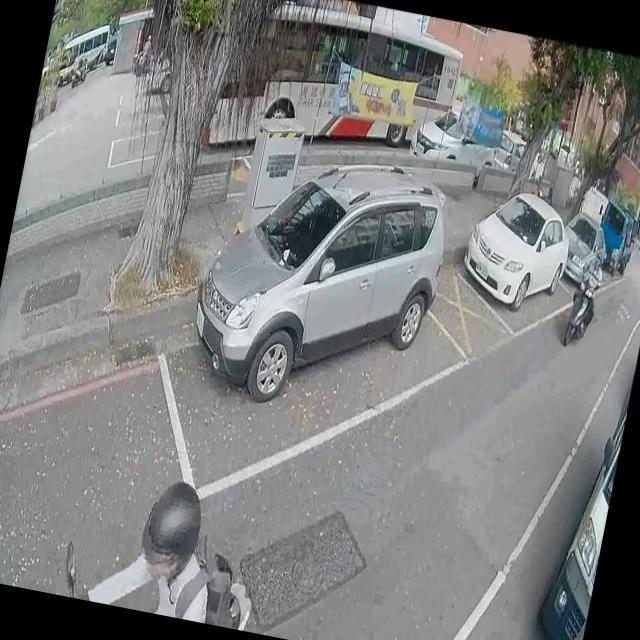person: (72, 458, 236, 624), (566, 249, 606, 339), (135, 28, 155, 75), (76, 54, 86, 74)
